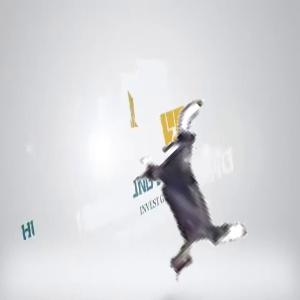drone: (94, 115, 272, 293)
